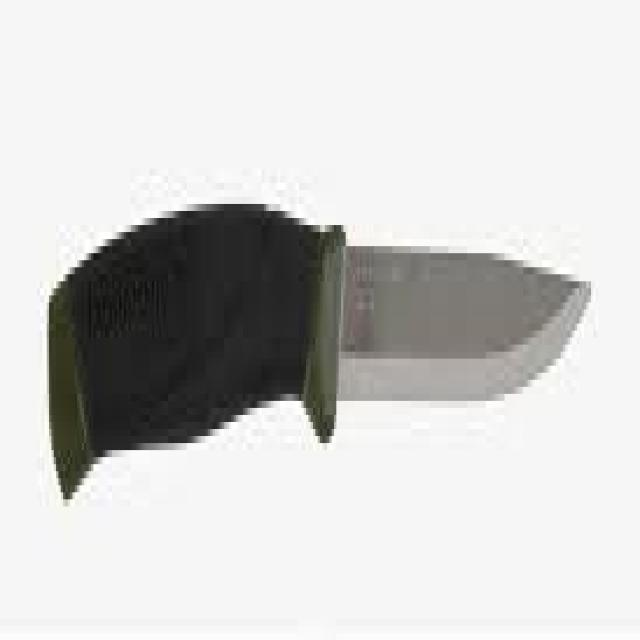knife: (44, 191, 597, 533)
